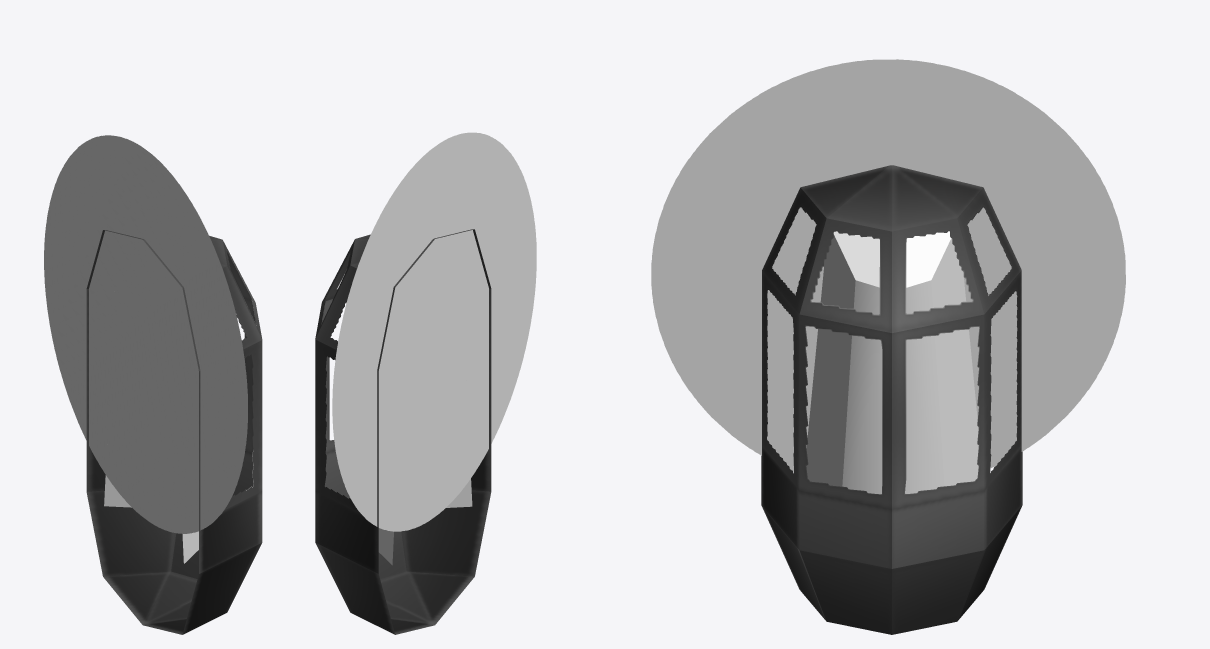
File: obj_light.FBX
3 renders of one model, left to right at view 1: azimuth 30°, elevation 25°; view 2: azimuth 150°, elevation 25°; view 3: azimuth 270°, elevation 25°, orthographic. The views are drawn at different scales.
Visible parts, largest first — view 1: obj_wall_light_glow, obj_wall_light_outside; view 2: obj_wall_light_glow, obj_wall_light_outside; view 3: obj_wall_light_glow, obj_wall_light_outside.
Part boxes in pixels (x1,y1,x2,y2): obj_wall_light_glow: (44, 135, 247, 563); obj_wall_light_outside: (86, 230, 262, 634); obj_wall_light_glow: (332, 132, 536, 565); obj_wall_light_outside: (315, 229, 491, 634); obj_wall_light_glow: (651, 59, 1125, 494); obj_wall_light_outside: (761, 165, 1022, 634).
Bounding box in the file's own units: 3.91 × 17.04 × 15.58.
Materials: 1 (1 with a texture image).
